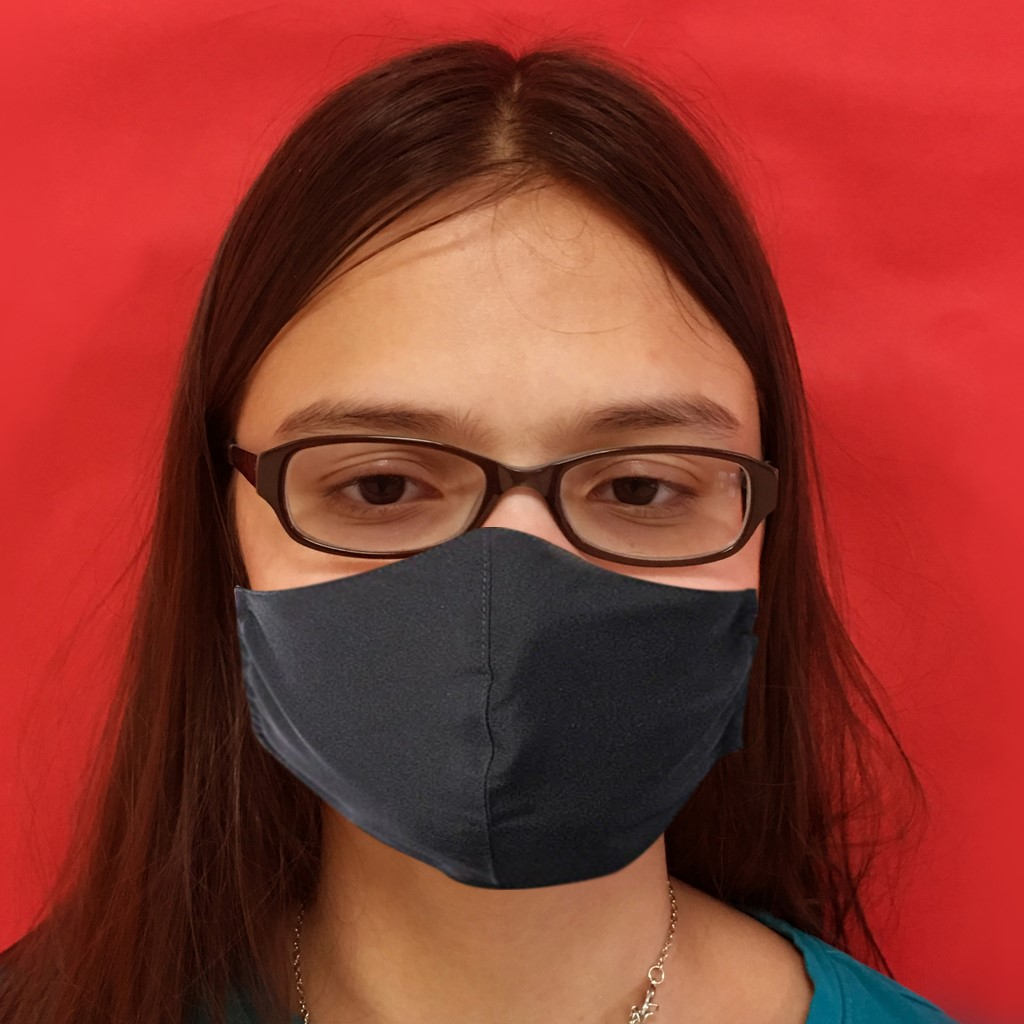con_mascara: (193, 192, 811, 895)
